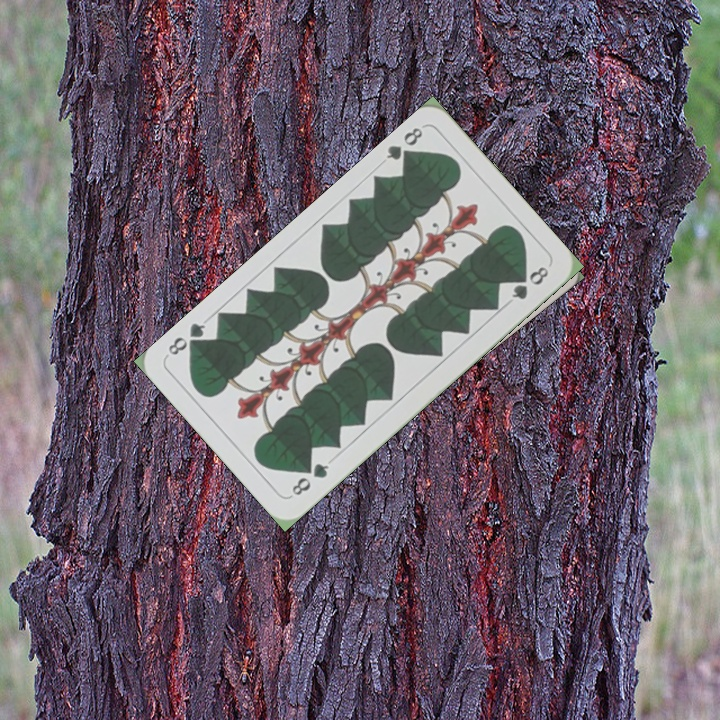G8: (381, 123, 426, 167), (287, 458, 332, 499)
